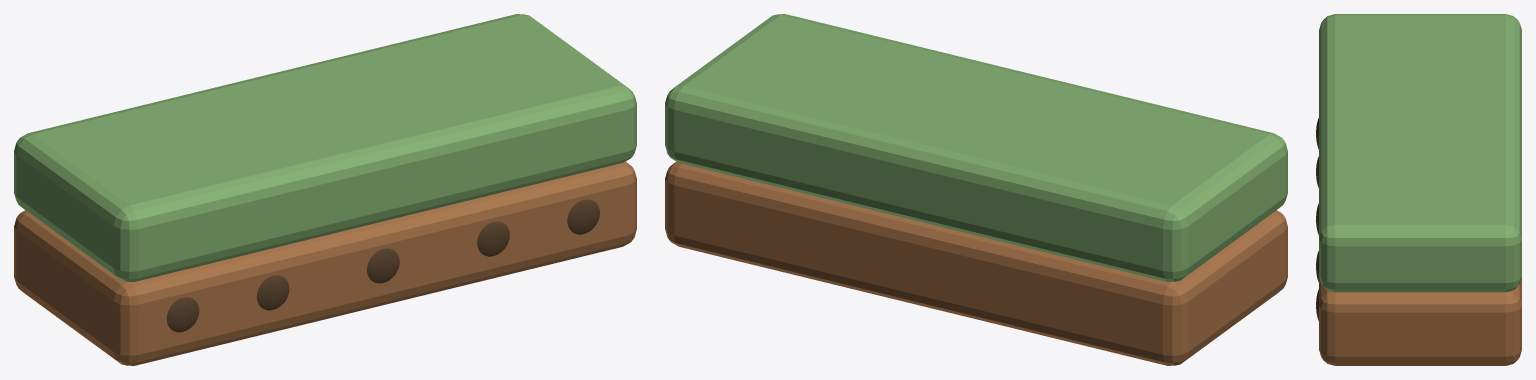
File: ScaleCrossSection.fbx
The picture shows the model from 3 angles, left to right: view 1: azimuth 30°, elevation 25°; view 2: azimuth 150°, elevation 25°; view 3: azimuth 270°, elevation 25°; orthographic projection. The views are drawn at different scales.
Visible parts, largest first — view 1: ActiveTissue, PassiveTissue, Pore, Pore.001, Pore.002, Pore.004, Pore.003; view 2: ActiveTissue, PassiveTissue; view 3: ActiveTissue, PassiveTissue.
Boxes of the visible parts, x1,y1,x2,y2 form: ActiveTissue: [14, 14, 636, 281]; PassiveTissue: [14, 161, 636, 365]; Pore: [166, 297, 199, 332]; Pore.001: [256, 275, 289, 310]; Pore.002: [367, 248, 399, 283]; Pore.004: [567, 199, 599, 234]; Pore.003: [477, 221, 509, 256]; ActiveTissue: [665, 14, 1287, 281]; PassiveTissue: [665, 161, 1287, 365]; ActiveTissue: [1319, 14, 1521, 292]; PassiveTissue: [1319, 277, 1521, 365].
Bounding box in the file's own units: 2.6 × 0.76 × 1.01.
